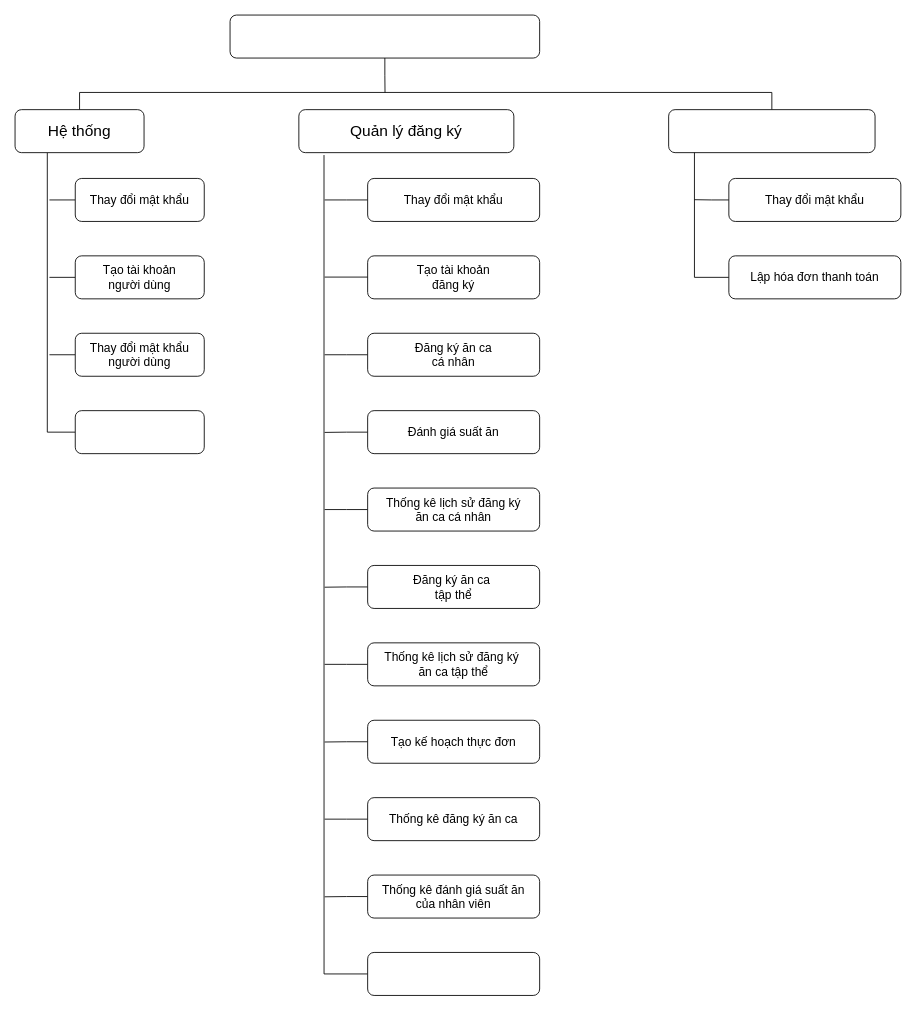
This 916x1011 diagram has some shape labels left out. The shapes that lost their labels are listed below. From the top down, each one's box as (x1, y1, x2, y2) in pixels, then its label:
(229, 14, 540, 58): ĐĂNG KÝ ĂN CA
(668, 109, 875, 153): Quản lý giao dịch
(74, 410, 204, 454): Cập nhật người dùng
(367, 952, 540, 995): Đánh giá nhà cung cấp
